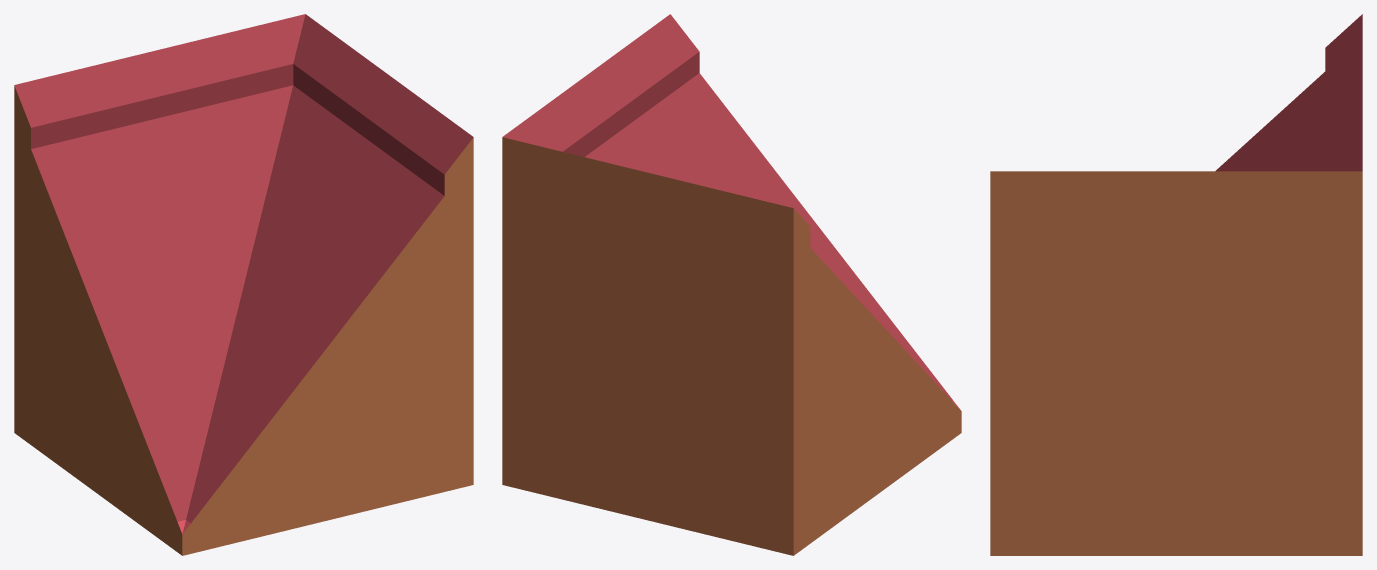
The model's file is roofHighCornerInner.fbx.
The picture shows the model from 3 angles, left to right: view 1: azimuth 30°, elevation 25°; view 2: azimuth 150°, elevation 25°; view 3: azimuth 270°, elevation 25°; orthographic projection. The views are drawn at different scales.
Visible parts, largest first — view 1: roofHighCornerInner; view 2: roofHighCornerInner; view 3: roofHighCornerInner.
Part boxes in pixels (x1,y1,x2,y2): roofHighCornerInner: [14, 14, 473, 555]; roofHighCornerInner: [502, 14, 961, 555]; roofHighCornerInner: [990, 14, 1362, 555].
Bounding box in the file's own units: 10 × 11.41 × 10.
